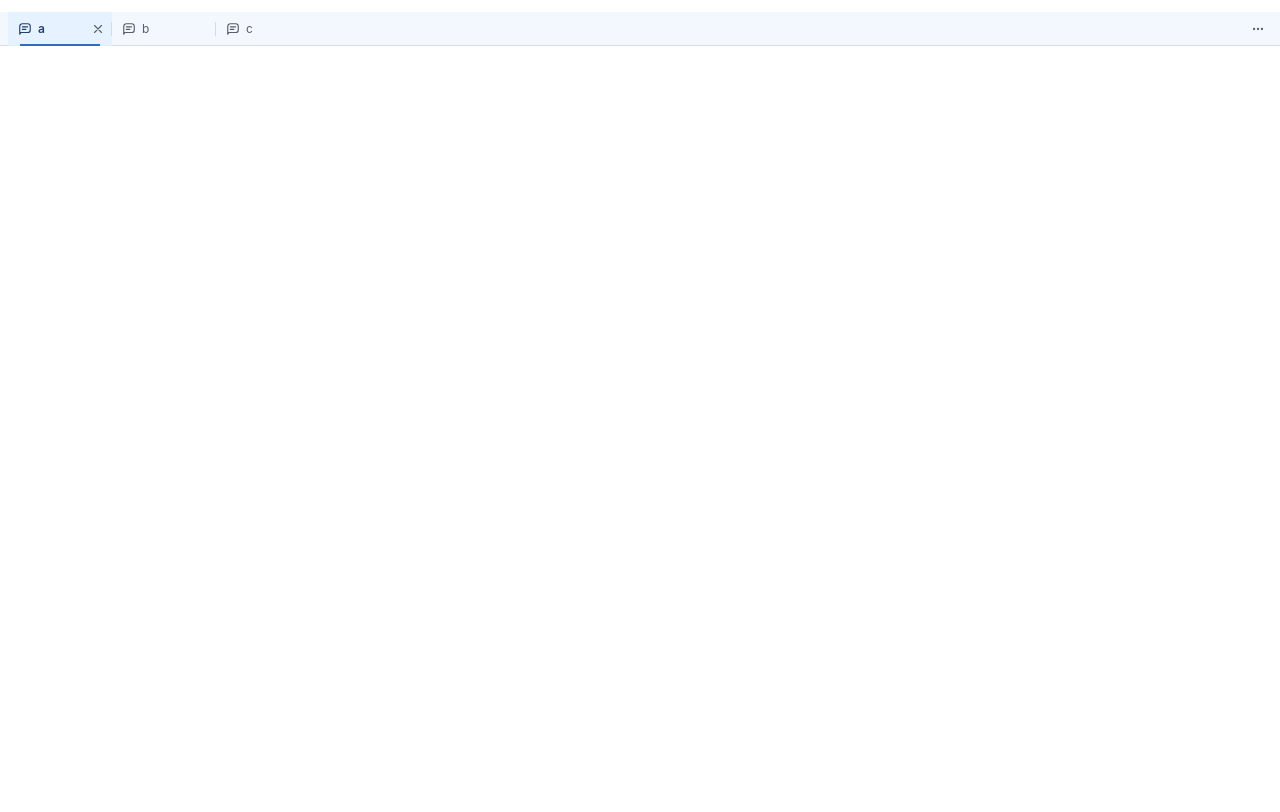
Test case: mousedown outside the menu dismisses it
Right-click the button "b".
right_click(152, 29)  # box [112, 12, 192, 46]
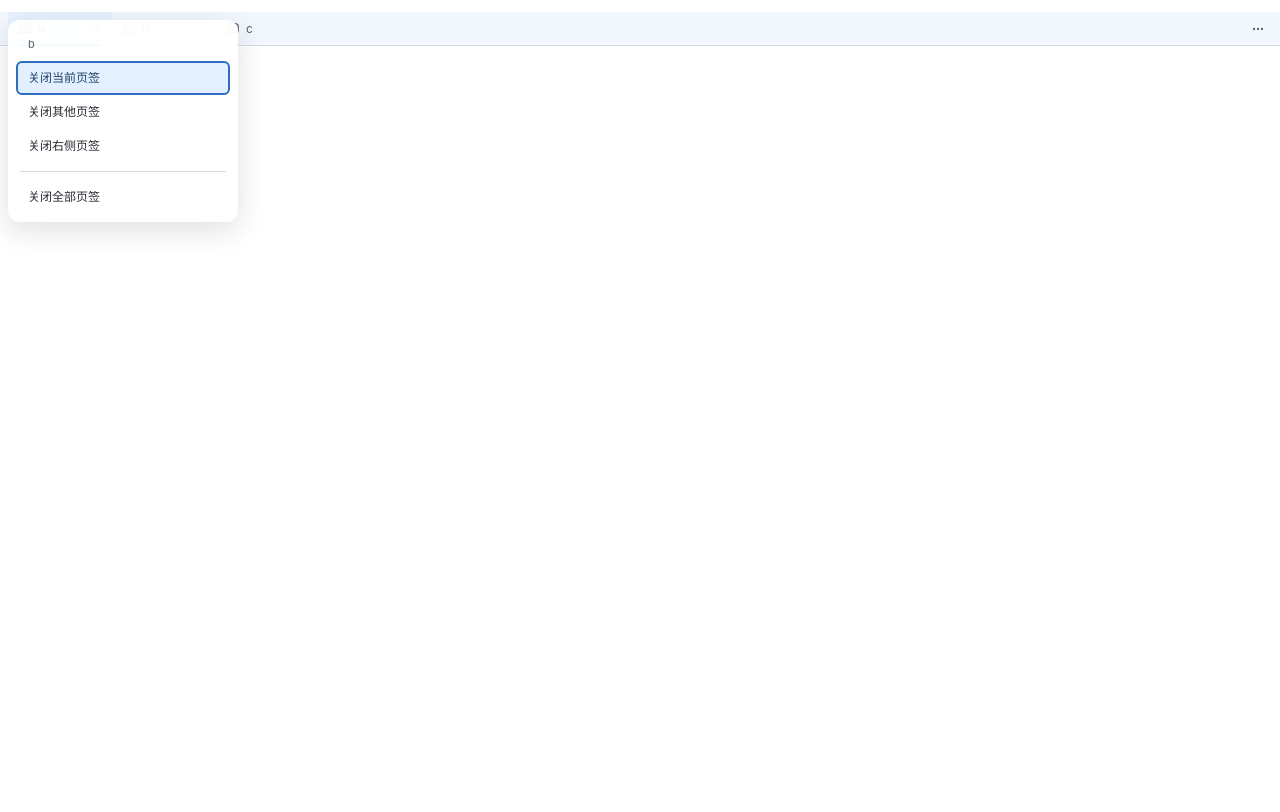
Now the menu is shown, box [8, 20, 238, 222]
Press the mouse on the element showing "a b c b 关闭当前页签 关闭其他页签 关闭右侧页签 关闭全部页签" at (640, 412), box [0, 12, 1279, 811]
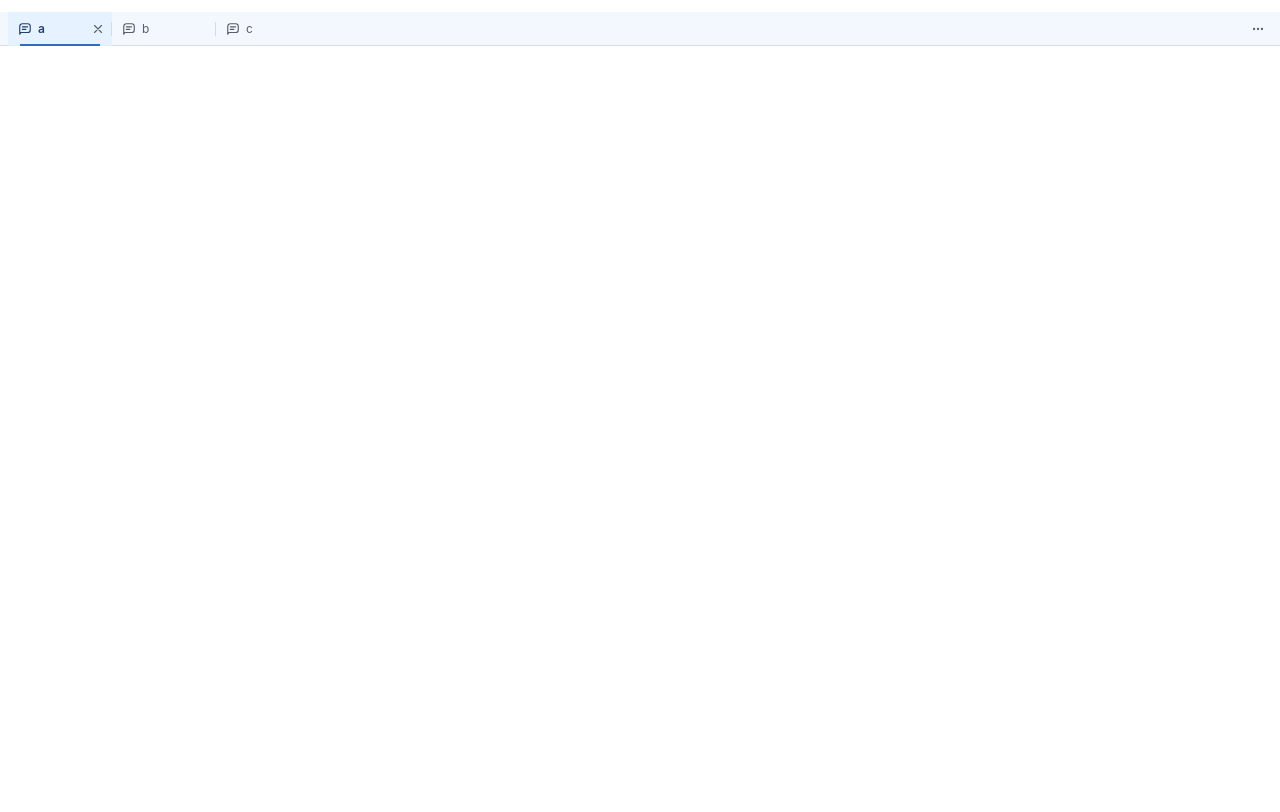
Now the menu is gone
